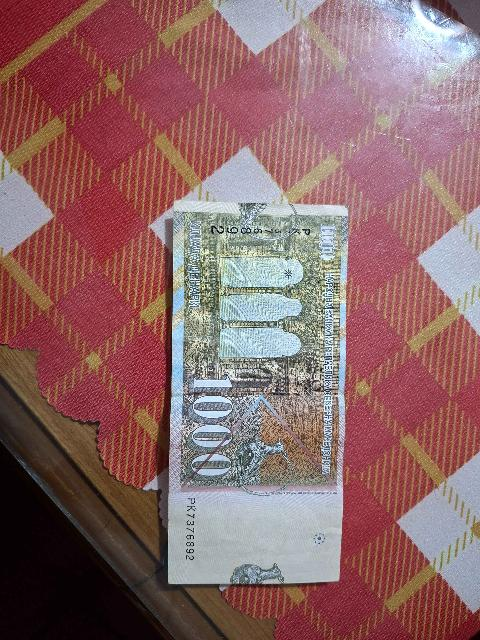1000_note: (169, 202, 347, 583)
